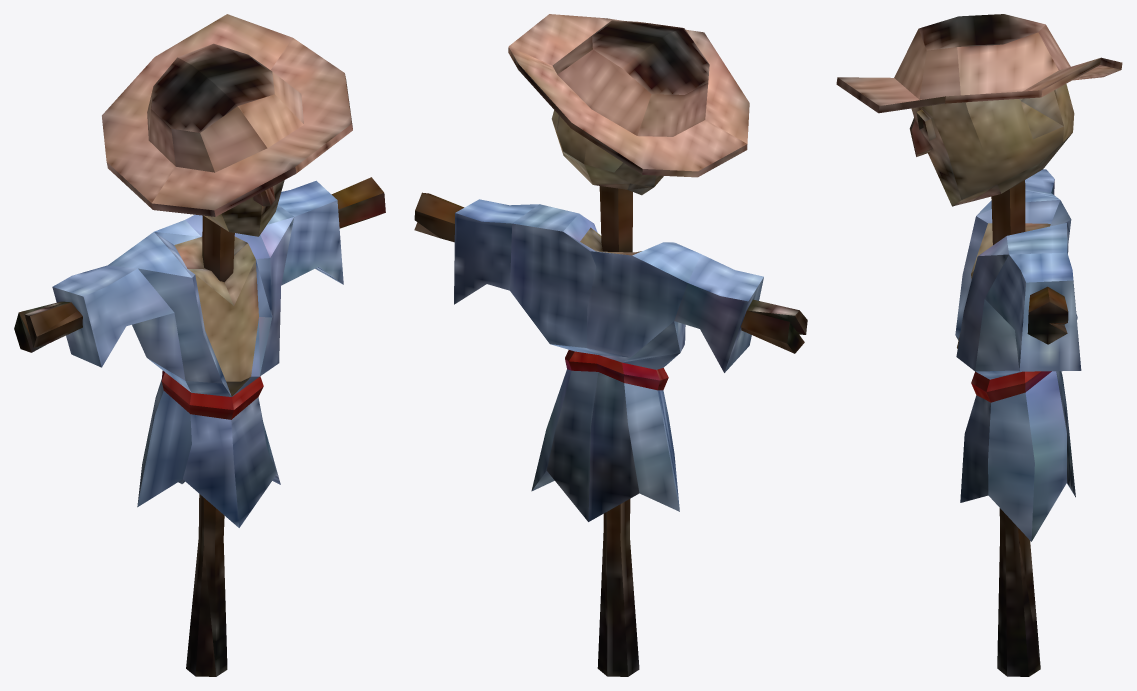
The model's file is rice field people.fbx.
The picture shows the model from 3 angles, left to right: view 1: azimuth 30°, elevation 25°; view 2: azimuth 150°, elevation 25°; view 3: azimuth 270°, elevation 25°; orthographic projection. The views are drawn at different scales.
Parts seen in each view (by area): view 1: rice field people; view 2: rice field people; view 3: rice field people.
Part boxes in pixels (x1=…): rice field people: x1=14, y1=14, x2=385, y2=676; rice field people: x1=414, y1=14, x2=807, y2=676; rice field people: x1=836, y1=14, x2=1122, y2=676.
Size of the model in its own units: 99.7 by 161 by 64.79.
